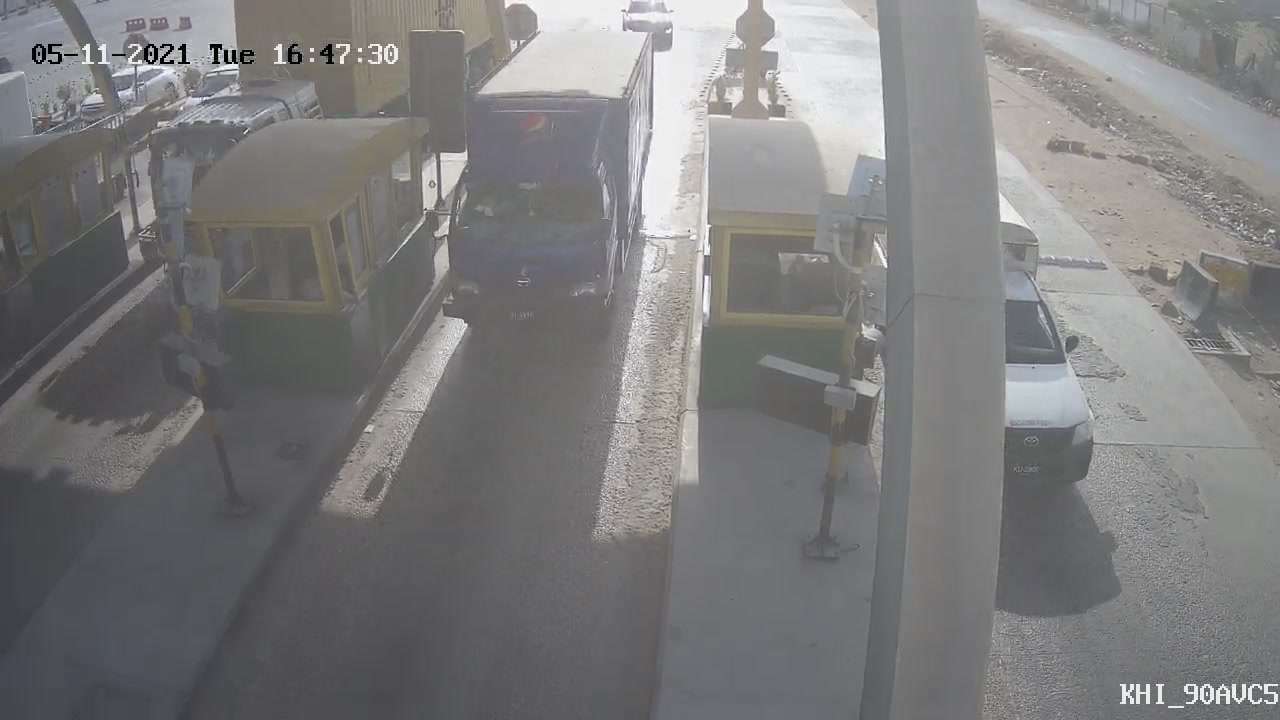F5: (413, 13, 669, 372)
